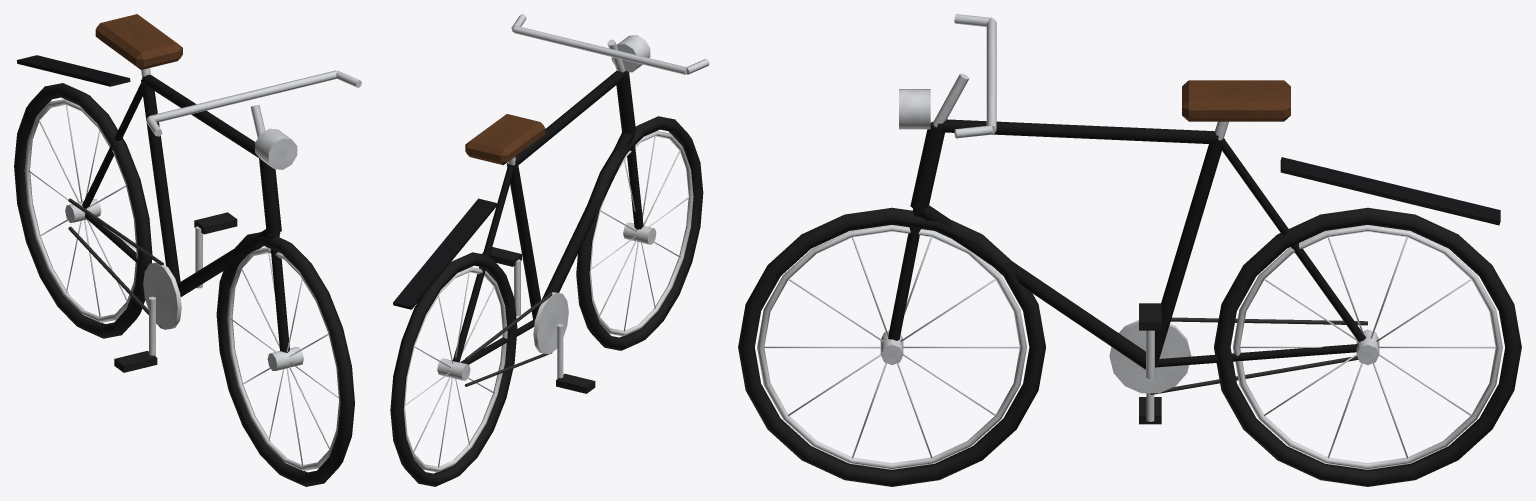
Rendered from OB_Rower.fbx.
The picture shows the model from 3 angles, left to right: view 1: azimuth 30°, elevation 25°; view 2: azimuth 150°, elevation 25°; view 3: azimuth 270°, elevation 25°; orthographic projection. The views are drawn at different scales.
Parts seen in each view (by area): view 1: Rama, Kolo_P, Kolo_T, Pedaly; view 2: Rama, Kolo_T, Kolo_P, Pedaly; view 3: Rama, Kolo_T, Kolo_P, Pedaly.
Part boxes in pixels (x1=…): Rama: x1=17, y1=14, x2=361, y2=352; Kolo_P: x1=216, y1=232, x2=354, y2=486; Kolo_T: x1=14, y1=83, x2=152, y2=338; Pedaly: x1=114, y1=212, x2=237, y2=372; Rama: x1=393, y1=14, x2=709, y2=386; Kolo_T: x1=390, y1=252, x2=517, y2=486; Kolo_P: x1=576, y1=116, x2=703, y2=350; Pedaly: x1=482, y1=247, x2=595, y2=393; Rama: x1=888, y1=14, x2=1500, y2=394; Kolo_T: x1=1214, y1=207, x2=1521, y2=486; Kolo_P: x1=738, y1=207, x2=1045, y2=486; Pedaly: x1=1139, y1=303, x2=1161, y2=424.
Size of the model in its own units: 0.6205 by 1.01 by 1.73.
